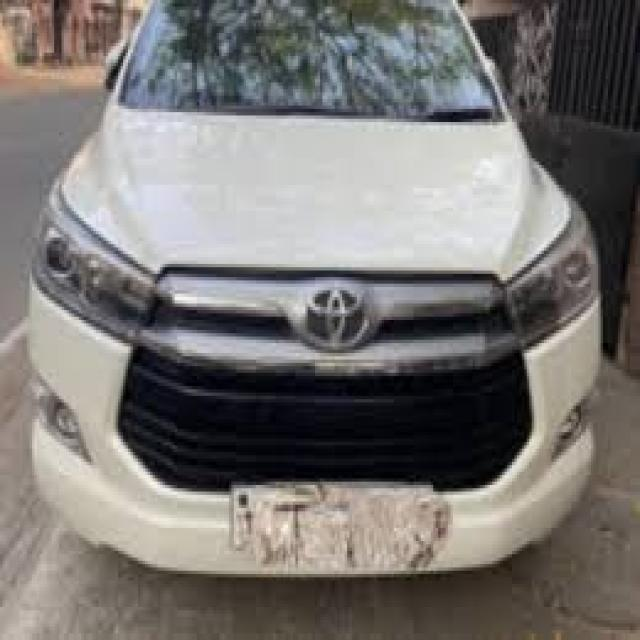light_vehicle: (31, 0, 601, 575)
